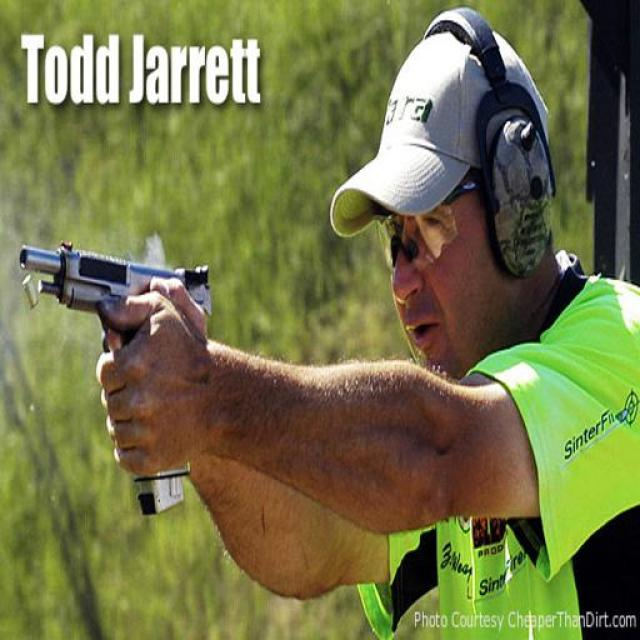pistol: (14, 236, 210, 512)
